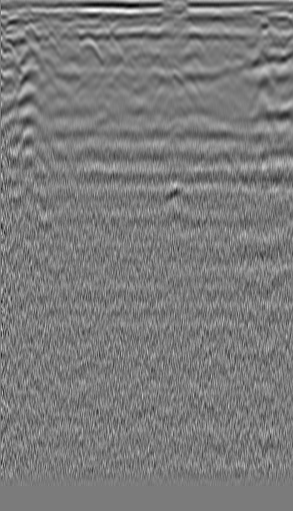가스: (158, 174, 194, 207)
상수: (12, 45, 45, 78)
오수: (241, 69, 275, 112)
우수: (103, 92, 131, 124)
